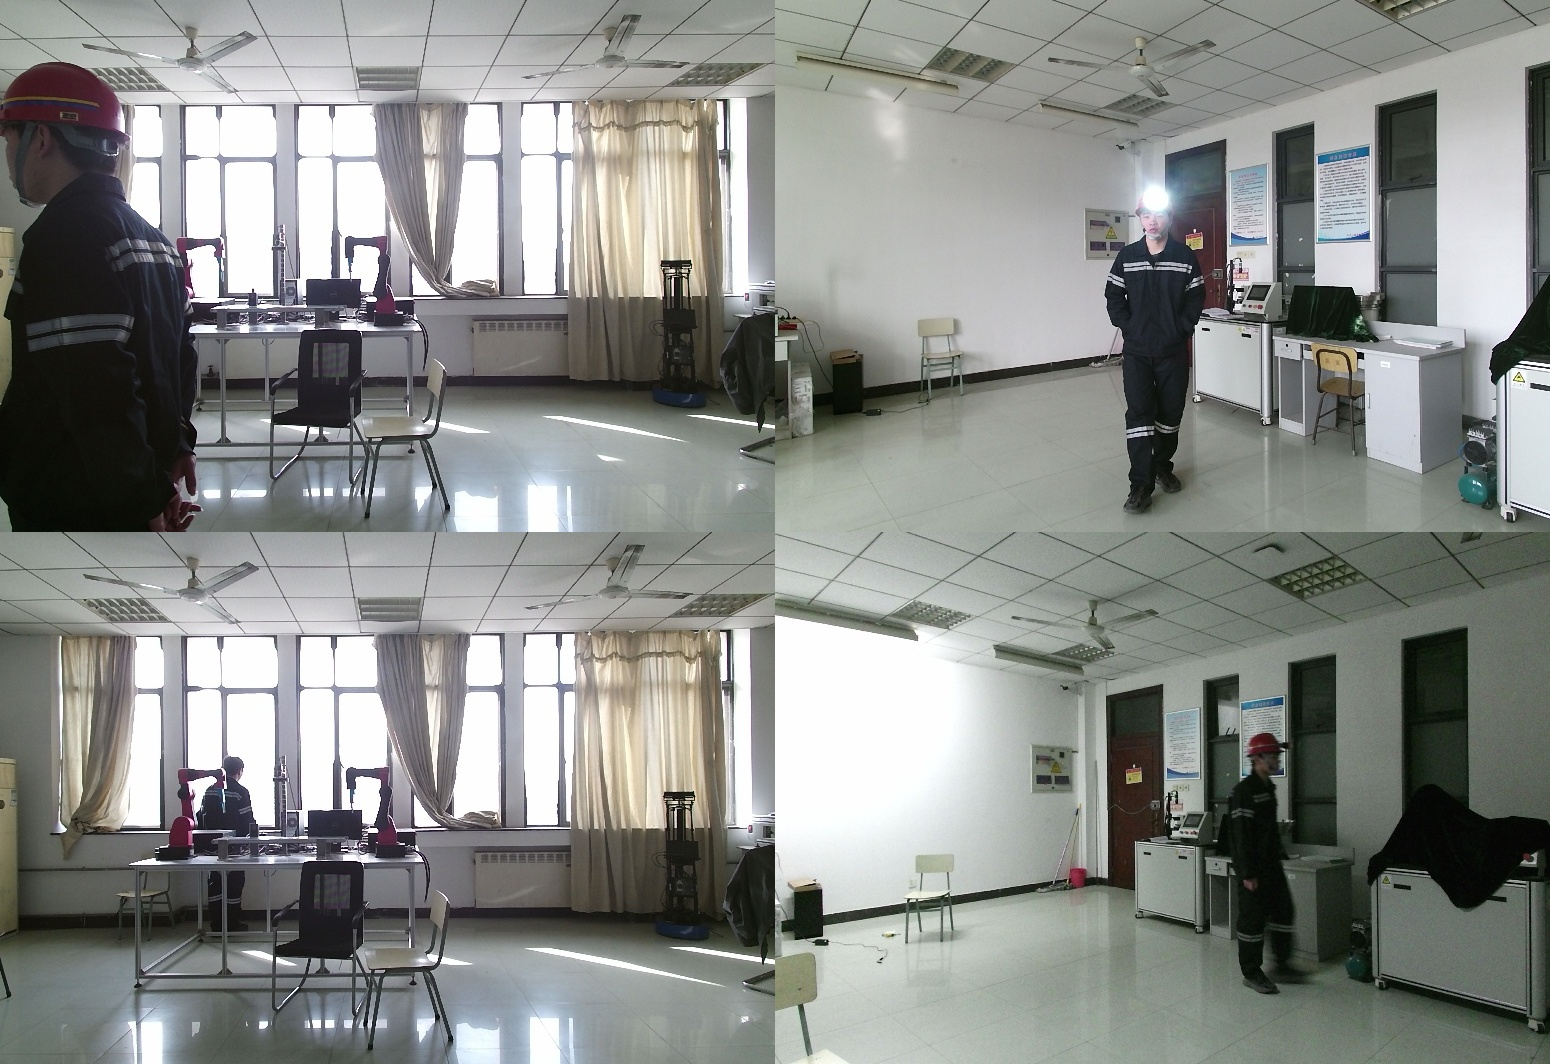person: (1, 62, 201, 531), (1097, 191, 1219, 513), (1217, 734, 1291, 993), (198, 760, 254, 949)
